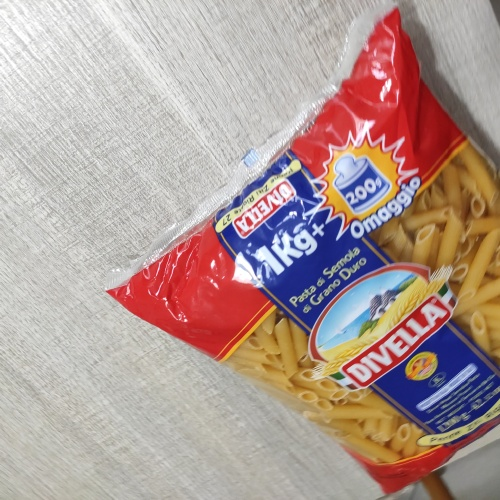pasta: (175, 80, 479, 469)
